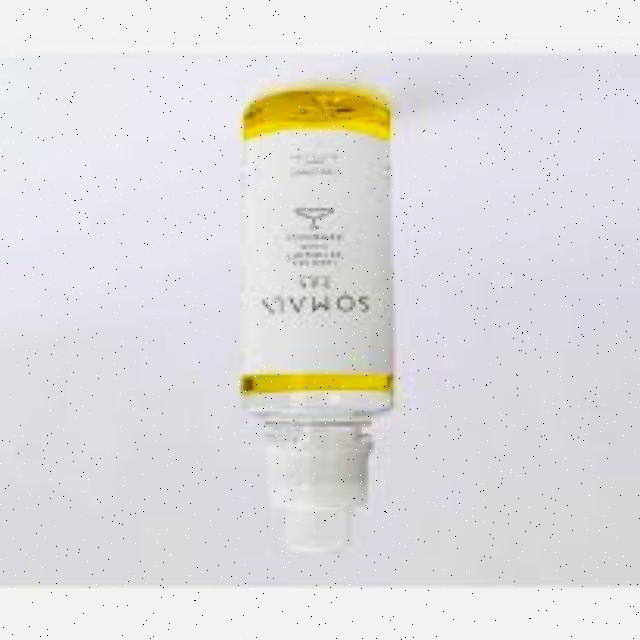liquid soap: (227, 81, 402, 564)
